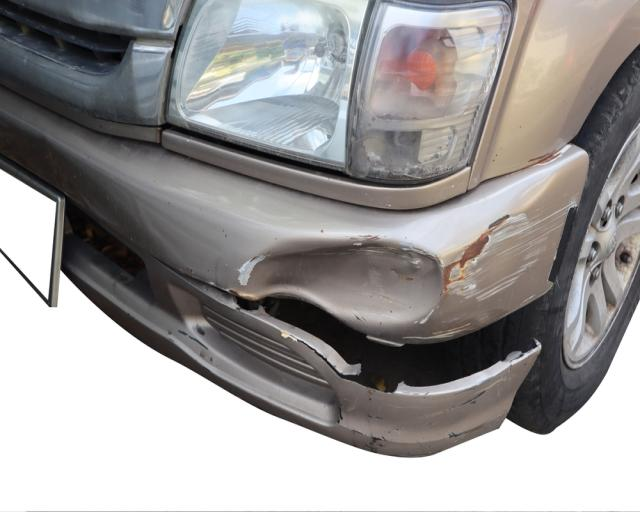crack: (287, 332, 358, 384)
dent: (240, 236, 444, 325)
scratch: (440, 198, 579, 304), (356, 383, 511, 453), (406, 319, 476, 341)
